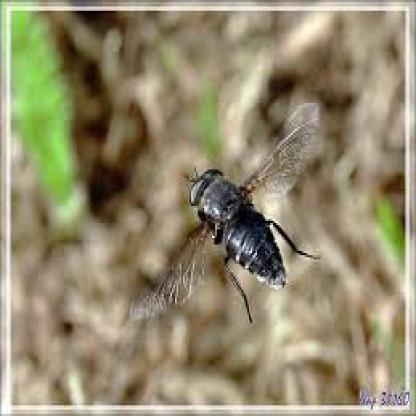other: (117, 105, 321, 317)
